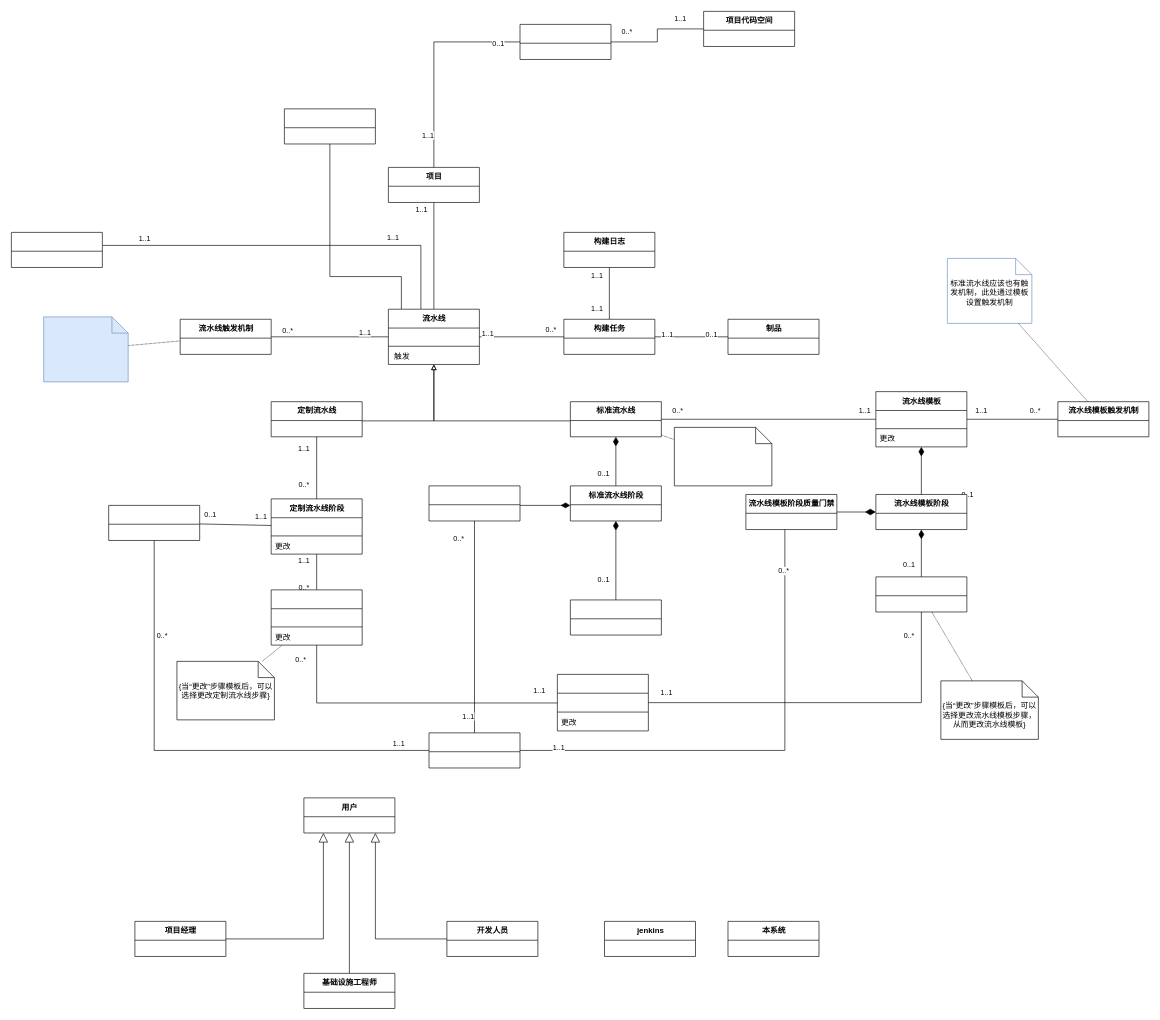
Some shapes in this 1160 by 1020 pixel diagram are drawn without their labels. Here are the shapes that lost their labels. From the top down, the box of each, then its label:
(519, 24, 611, 59): 代码仓库
(284, 108, 375, 144): 流水线参数
(11, 232, 102, 267): 流水线运行资源
(43, 316, 128, 382): 当有多个触发机制时，触发的业务规则？
(674, 427, 772, 486): {当“更改”流水线模板后，可以选择更改标准流水线}
(108, 505, 200, 540): 阶段质量门禁
(428, 485, 520, 521): 标准流水线阶段质量门禁
(875, 576, 967, 612): 流水线模板步骤
(271, 589, 362, 645): 定制流水线步骤
(570, 599, 661, 635): 标准流水线步骤
(557, 674, 648, 731): 步骤模板
(428, 732, 520, 768): 质量门禁
